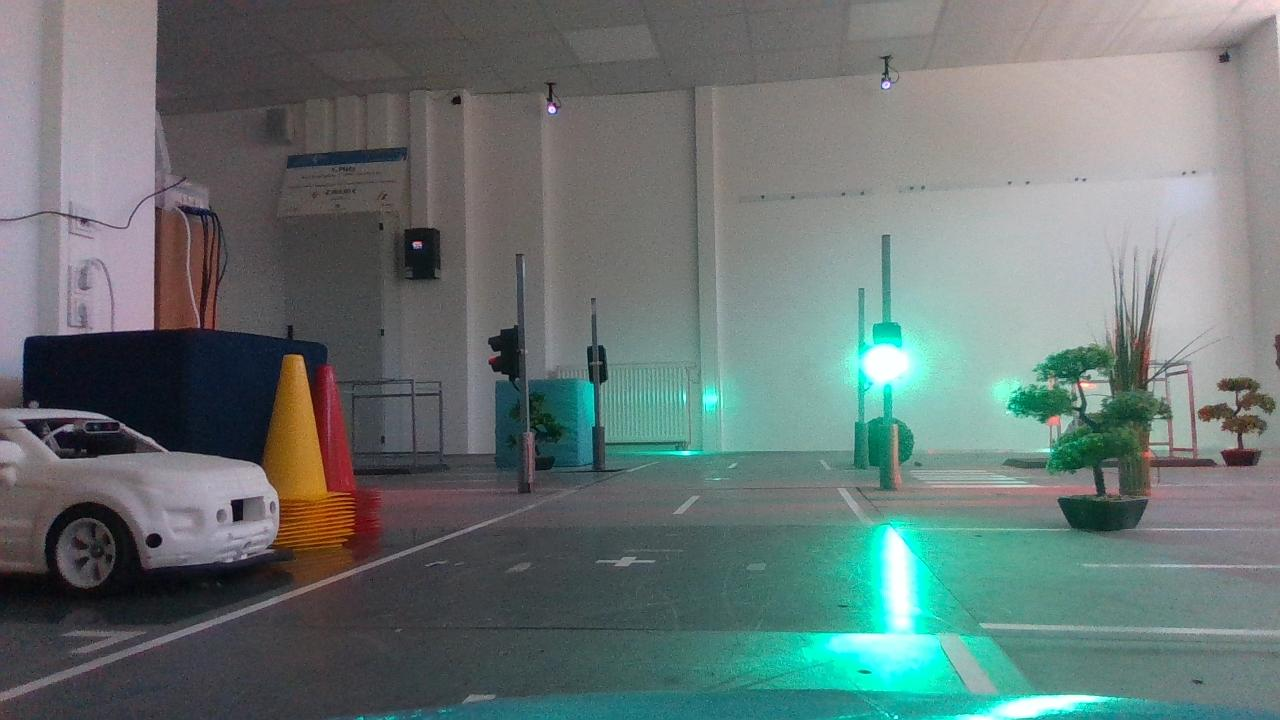traffic_light_green: (861, 310, 916, 395)
